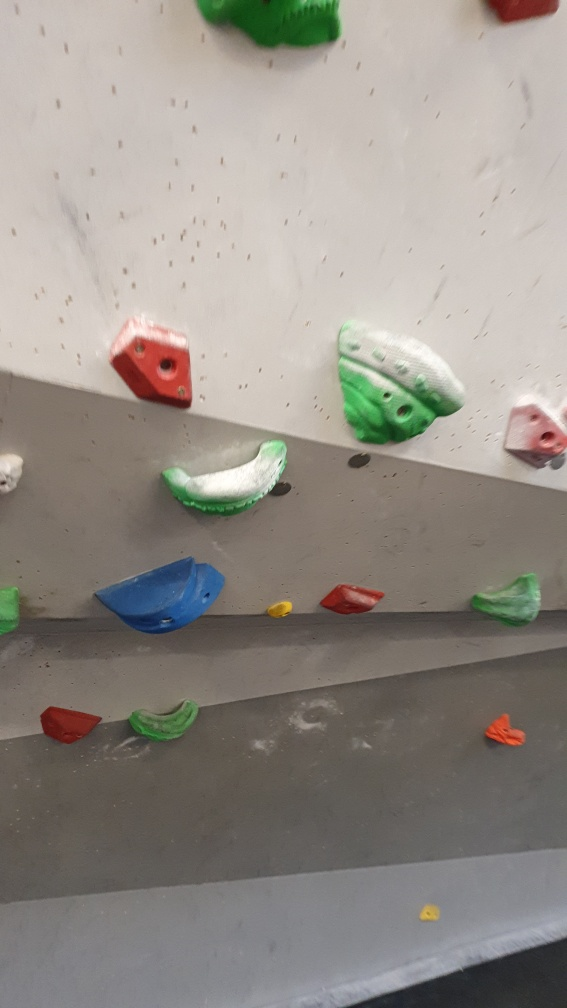Crimp: (110, 319, 200, 412), (500, 399, 567, 474), (318, 577, 389, 619)
Hand Start: (264, 479, 297, 503), (344, 449, 373, 470), (550, 450, 567, 469)
Jug: (329, 313, 472, 444), (155, 431, 295, 517), (462, 568, 554, 632), (125, 692, 203, 746)
Pinch: (88, 554, 229, 637)
